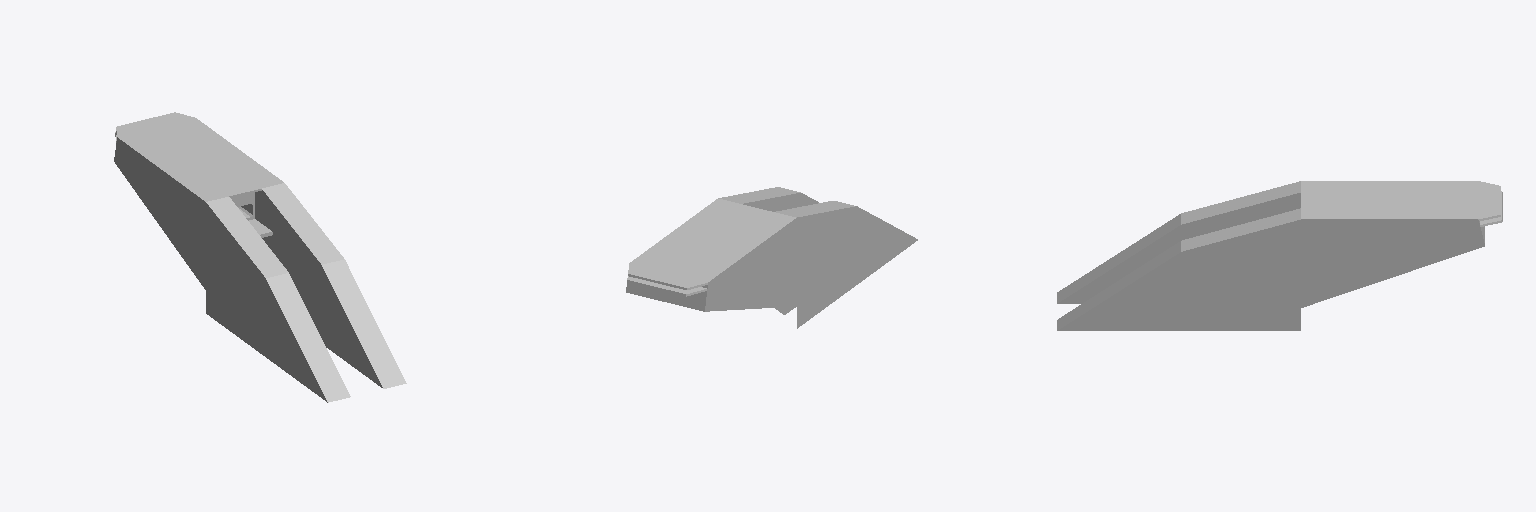
Rendered from Regroup028.obj.
3 renders of one model, left to right at view 1: azimuth 30°, elevation 25°; view 2: azimuth 150°, elevation 25°; view 3: azimuth 270°, elevation 25°, orthographic.
Visible parts, largest first — view 1: Regroup028; view 2: Regroup028; view 3: Regroup028.
Boxes of the visible parts, x1,y1,x2,y2 form: Regroup028: [114, 112, 406, 402]; Regroup028: [626, 187, 917, 328]; Regroup028: [1057, 181, 1502, 330].
Size of the model in its own units: 4.32 by 5.84 by 21.14.